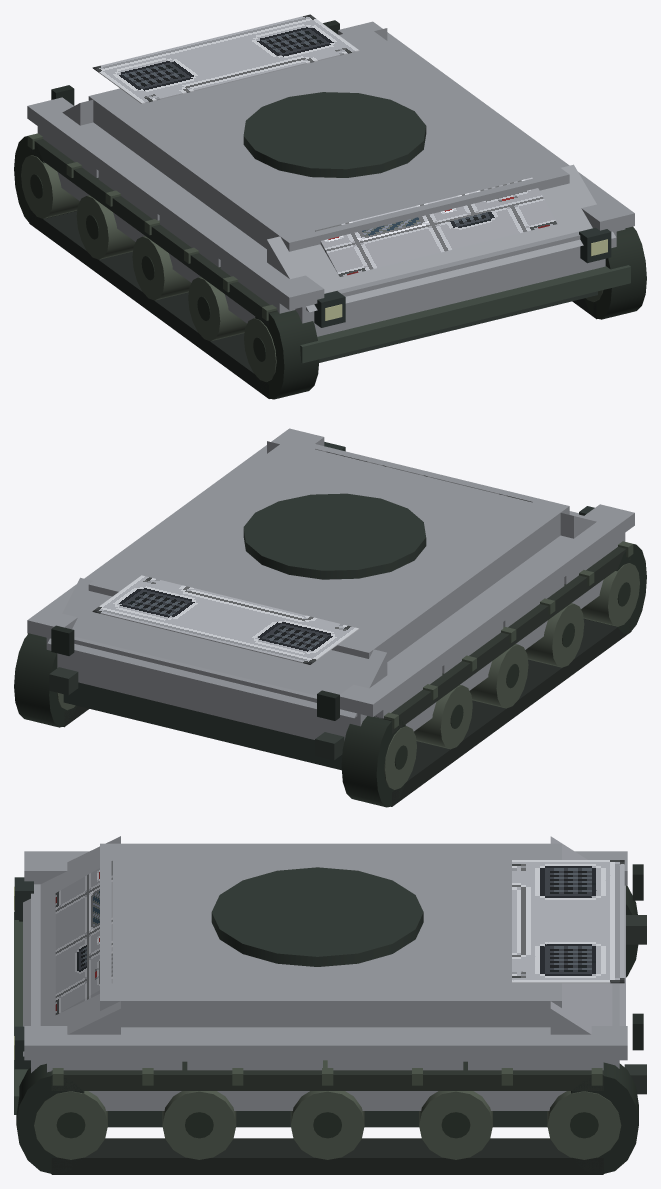
The model's file is CMU3DReduxVehicleTankPMC.glb.
The picture shows the model from 3 angles, top to bottom: view 1: azimuth 30°, elevation 25°; view 2: azimuth 150°, elevation 25°; view 3: azimuth 270°, elevation 25°; orthographic projection. The views are drawn at different scales.
Parts seen in each view (by area): view 1: fighting compartment, track fender (×2), fixed turret race, engine deck, road wheel (×5), glacis finish, lower armored hull, sloped glacis, front towing beam, track return (×3), lower track run, upper track run (+4 smaller); view 2: fighting compartment, track fender (×2), fixed turret race, rear engine armor, engine deck, lower armored hull, road wheel (×5), track return (×3), sealed belly, lower track run, upper track run, side skirt panel (×4) (+3 smaller); view 3: fighting compartment, track fender (×2), road wheel (×5), fixed turret race, lower track run, engine deck, side skirt panel (×4), upper track run, track return (×3), sloped glacis, glacis finish, sealed belly (+6 smaller).
Part boxes in pixels (x1,y1,x2,y2): fighting compartment: (88, 27, 569, 251); track fender (×2): (27, 21, 634, 310); fixed turret race: (243, 92, 426, 177); engine deck: (92, 14, 359, 103); road wheel (×5): (21, 155, 276, 381); glacis finish: (315, 177, 556, 276); lower armored hull: (295, 228, 616, 336); sloped glacis: (267, 164, 616, 312); front towing beam: (300, 265, 630, 363); track return (×3): (14, 136, 646, 399); lower track run: (29, 209, 270, 398); upper track run: (29, 139, 277, 325); fighting compartment: (88, 437, 569, 661); track fender (×2): (27, 428, 634, 716); fixed turret race: (243, 493, 426, 579); rear engine armor: (47, 577, 387, 718); engine deck: (92, 575, 359, 664); lower armored hull: (46, 511, 583, 740); road wheel (×5): (384, 563, 639, 789); track return (×3): (14, 544, 646, 807); sealed belly: (63, 682, 342, 770); lower track run: (391, 619, 631, 806); upper track run: (374, 547, 630, 733); side skirt panel (×4): (374, 533, 625, 731); fighting compartment: (100, 843, 561, 1027); track fender (×2): (24, 851, 627, 1060); road wheel (×5): (34, 1091, 621, 1159); fixed turret race: (211, 867, 423, 966); lower track run: (51, 1138, 603, 1174); engine deck: (512, 860, 624, 983); side skirt panel (×4): (47, 1060, 603, 1110); upper track run: (51, 1061, 603, 1090); track return (×3): (16, 885, 638, 1174); sloped glacis: (23, 836, 120, 1056); glacis finish: (55, 861, 112, 1014); sealed belly: (108, 1111, 547, 1127).
Size of the model in its own units: 3.03 by 1.11 by 3.94.
17 materials, 2 textured.
